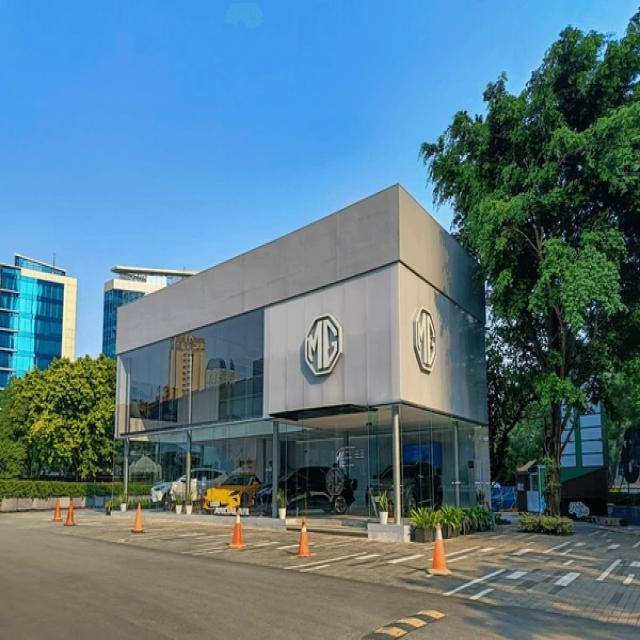mg: (301, 317, 350, 373), (414, 309, 438, 374)
